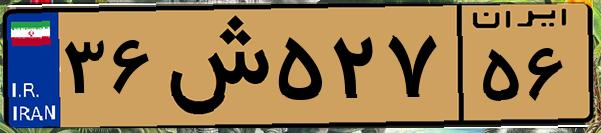2: (330, 28, 385, 110)
3: (57, 26, 110, 100)
5: (270, 28, 330, 110), (475, 38, 525, 113)
6: (525, 38, 570, 115), (110, 28, 158, 98)
7: (385, 28, 445, 110)
ش: (158, 12, 270, 120)
